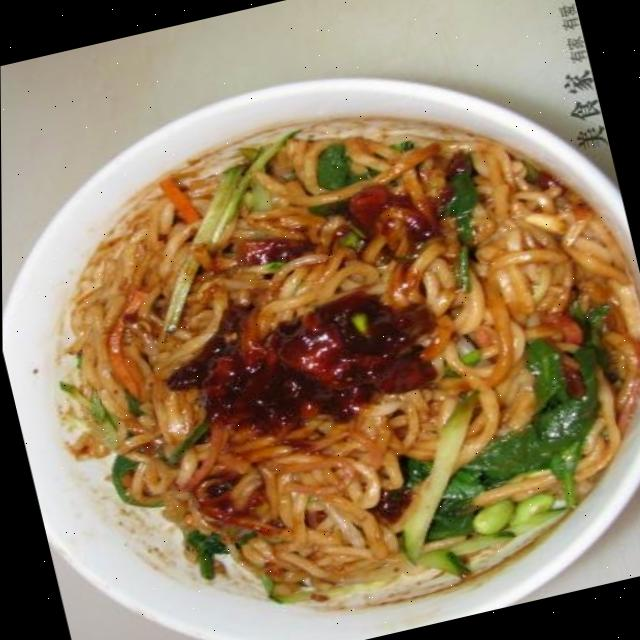面条主食: (0, 30, 640, 640)
